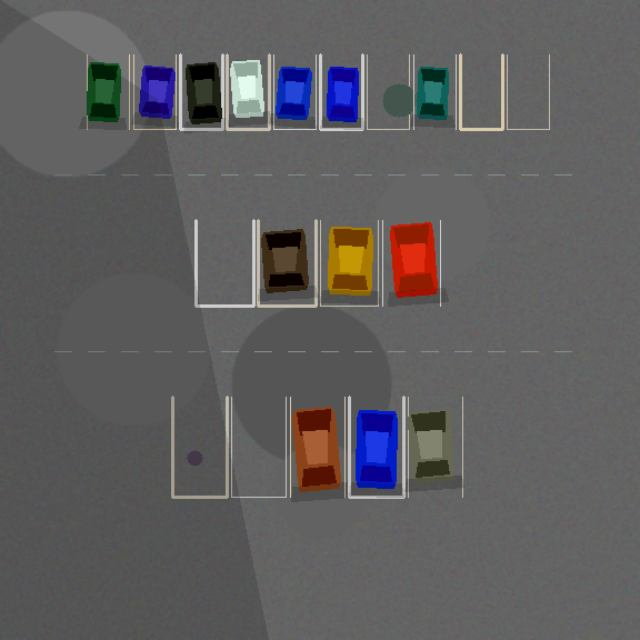space-empty: (172, 397, 227, 497), (231, 397, 286, 497), (196, 220, 253, 306), (367, 54, 409, 129), (460, 54, 502, 129), (507, 54, 549, 129)
space-occupied: (290, 397, 344, 497), (349, 397, 403, 497), (408, 397, 462, 497), (258, 220, 316, 306), (320, 220, 378, 306), (382, 220, 440, 306), (133, 54, 176, 129), (273, 54, 316, 129), (413, 54, 456, 129), (87, 54, 129, 129), (180, 54, 222, 129), (227, 54, 269, 129), (320, 54, 362, 129)
